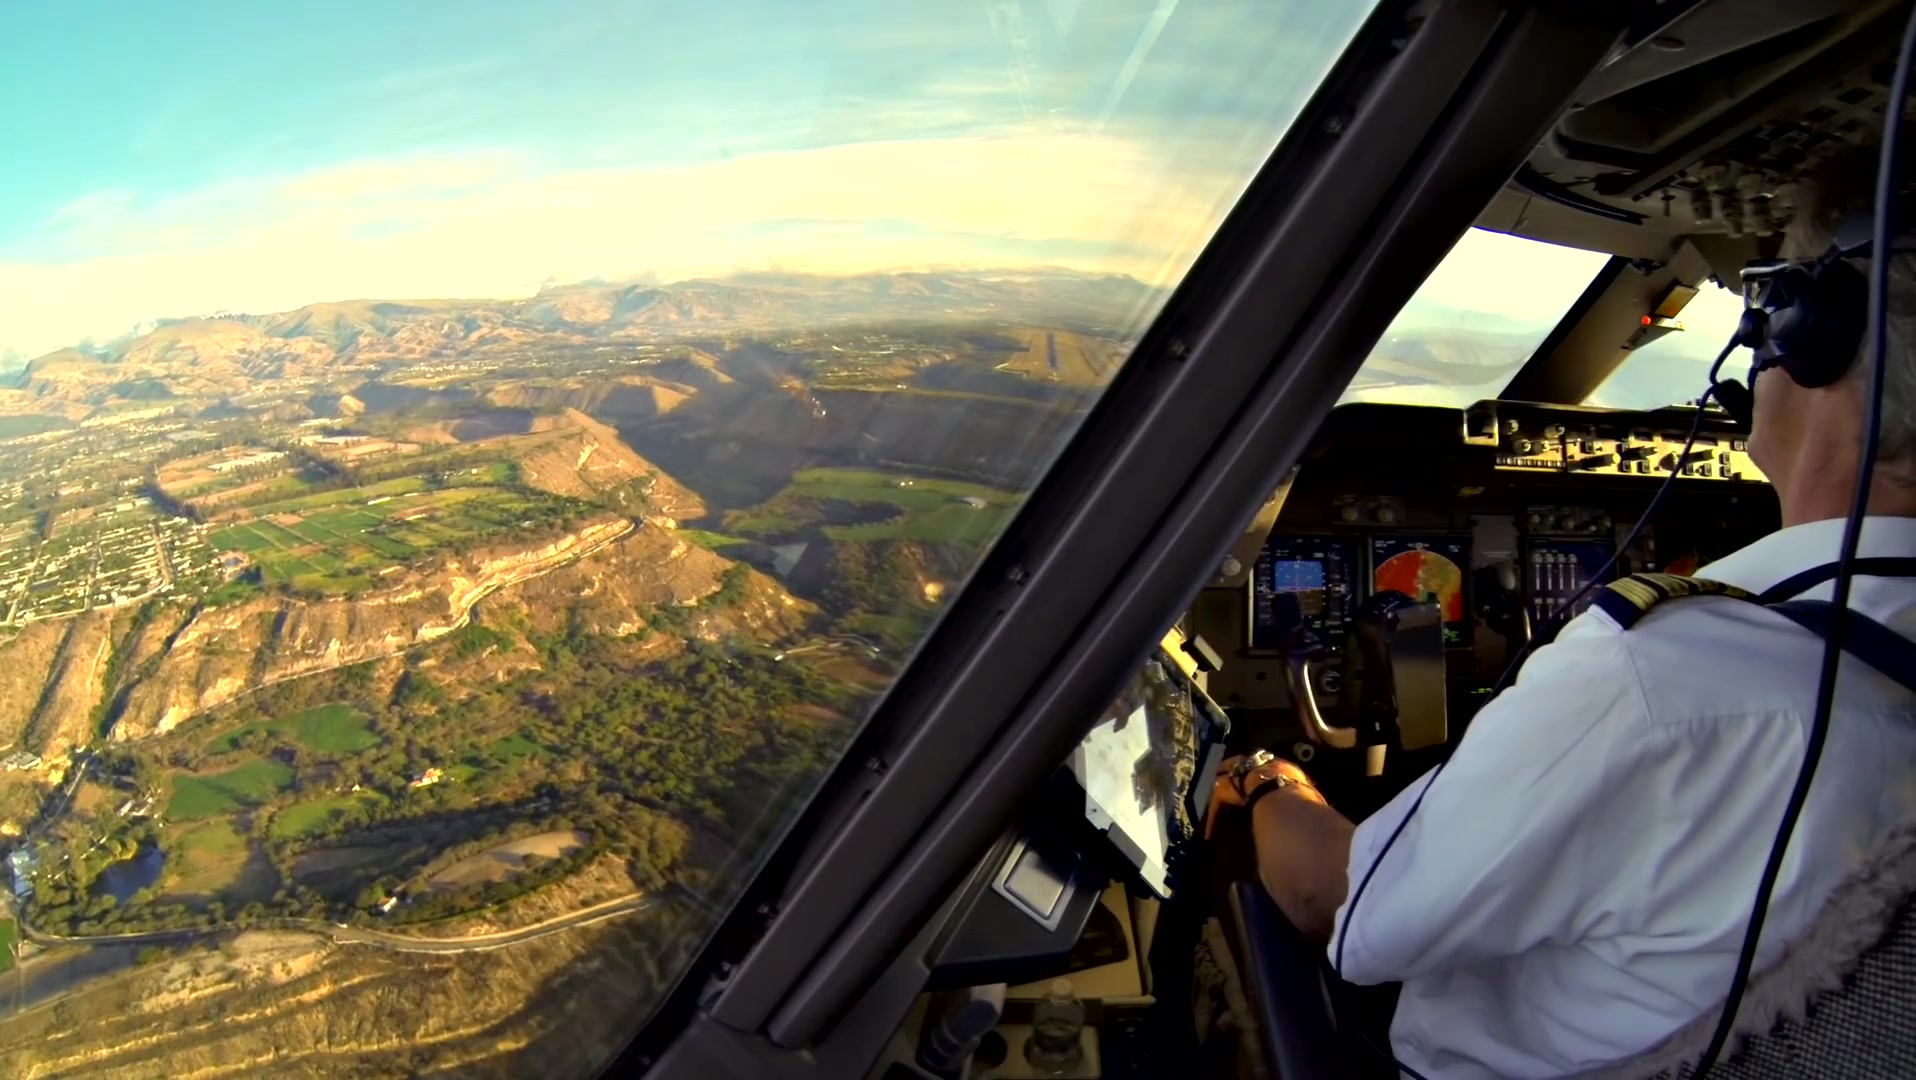runway: (1041, 328, 1065, 375)
